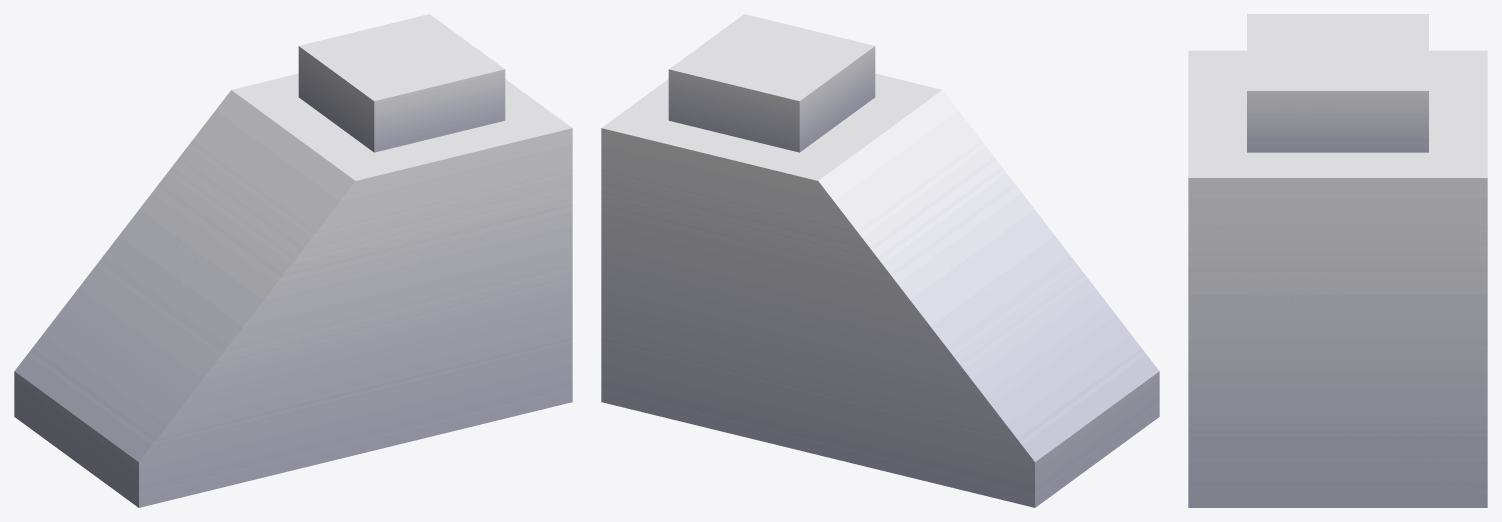
File: brick-kit--square-lq-brick-slope-1x2.glb
3 renders of one model, left to right at view 1: azimuth 30°, elevation 25°; view 2: azimuth 150°, elevation 25°; view 3: azimuth 270°, elevation 25°, orthographic. The views are drawn at different scales.
Visible parts, largest first — view 1: square-lq-brick-slope-1x2; view 2: square-lq-brick-slope-1x2; view 3: square-lq-brick-slope-1x2.
Part boxes in pixels (x1=…): square-lq-brick-slope-1x2: x1=14, y1=14, x2=572, y2=507; square-lq-brick-slope-1x2: x1=601, y1=14, x2=1159, y2=507; square-lq-brick-slope-1x2: x1=1188, y1=14, x2=1487, y2=507.
Size of the model in its own units: 0.159 by 0.114 by 0.079.
Materials: 1 (1 with a texture image).
